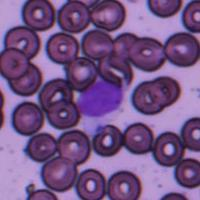L: (75, 78, 125, 120)
